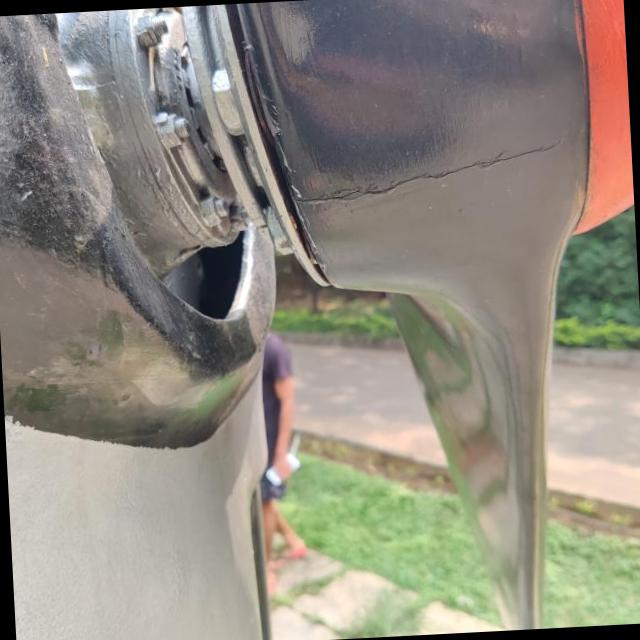Crack: (293, 158, 520, 208)
